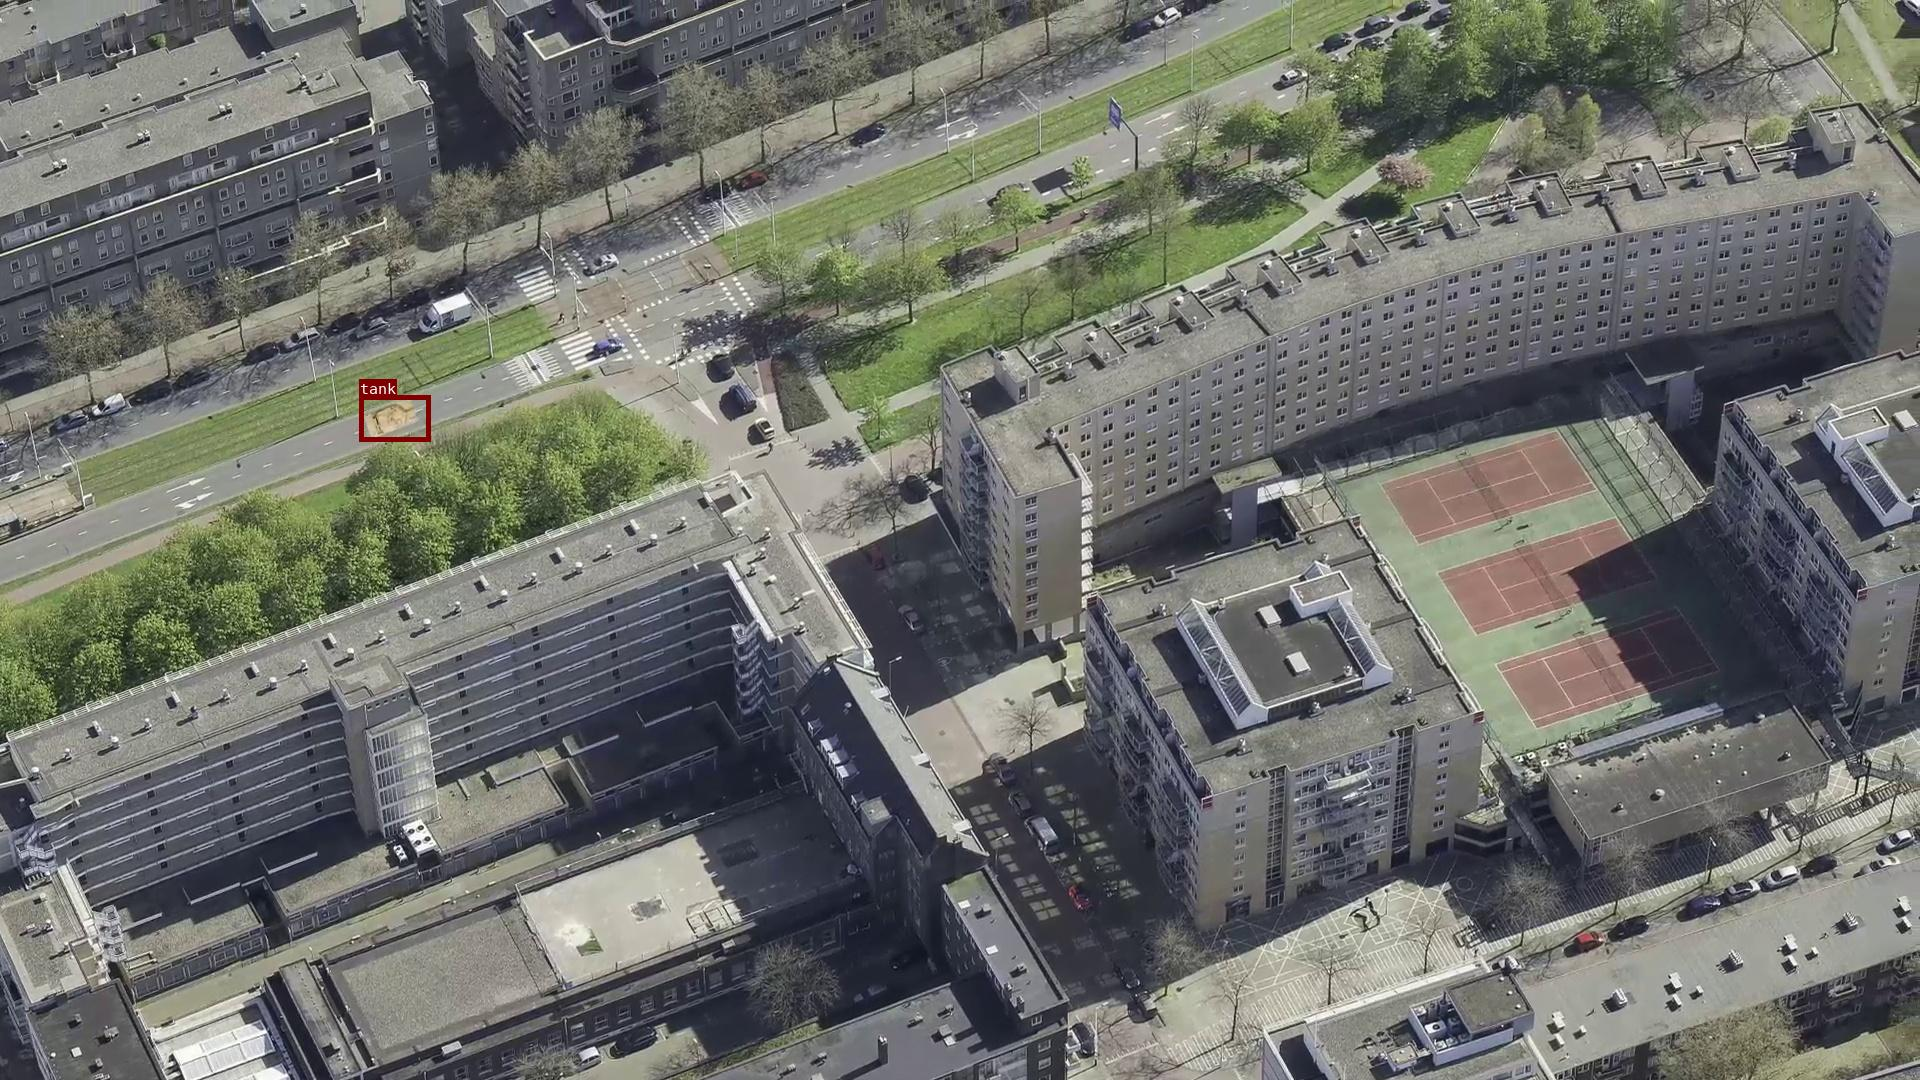tank: (359, 396, 430, 440)
